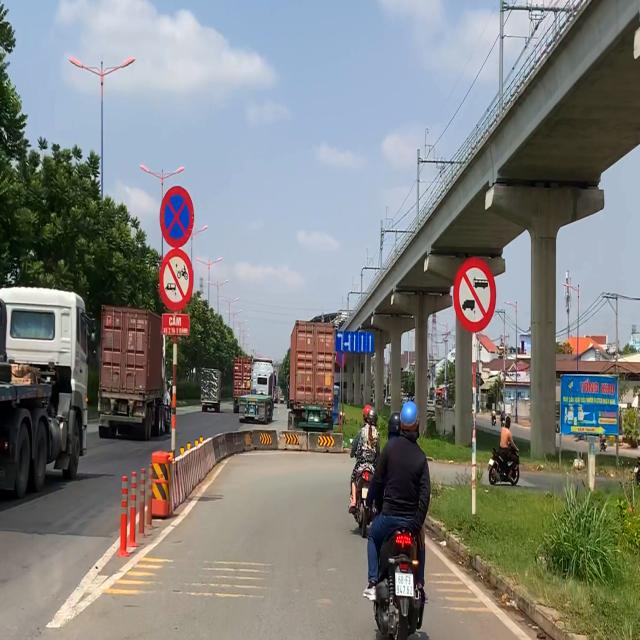Cam con lai: (454, 257, 495, 333), (159, 248, 194, 314)
Cam dung va do: (159, 185, 195, 249)
